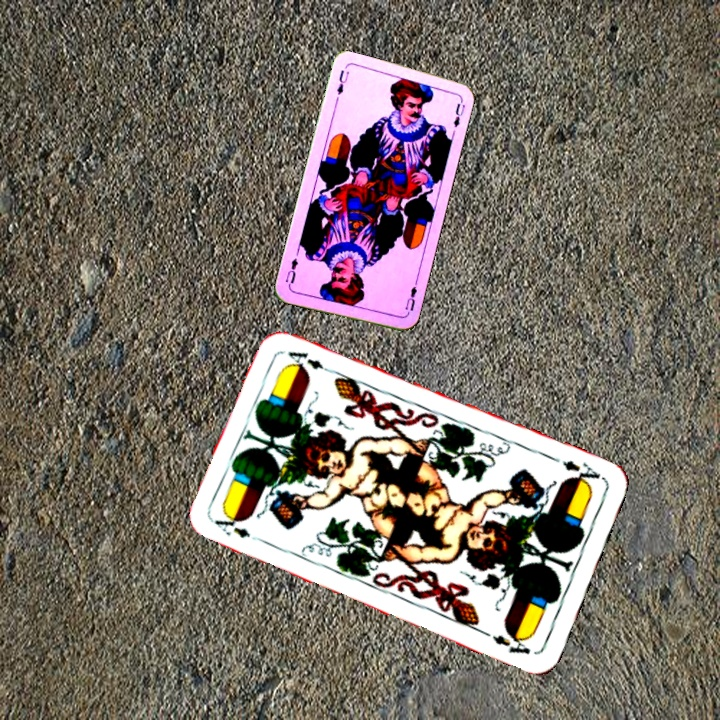EA: (210, 514, 267, 546), (558, 456, 605, 489)
EU: (401, 278, 420, 318), (333, 66, 352, 98)
